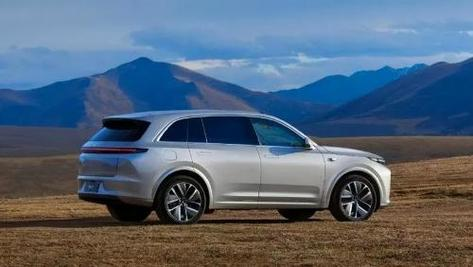汽车: (69, 110, 402, 227)
